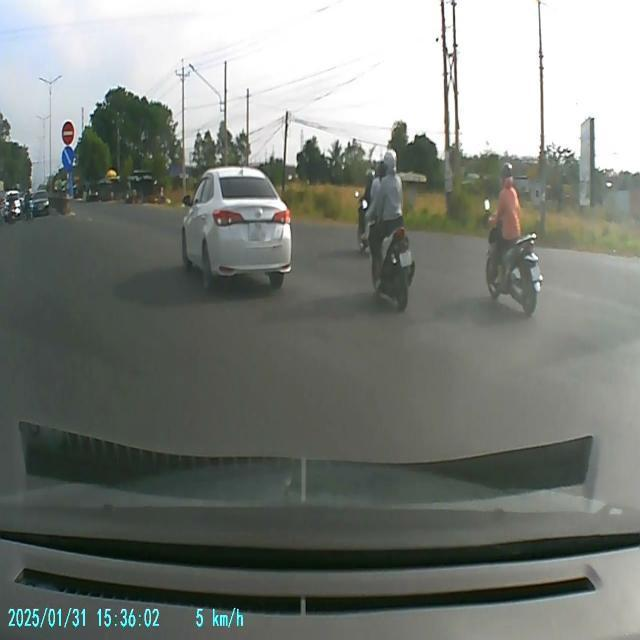102-cam-di-nguoc-chieu: (61, 120, 74, 146)
302a-huong-phai-di-vong-chuong-ngai-vat-1: (61, 146, 74, 172)
